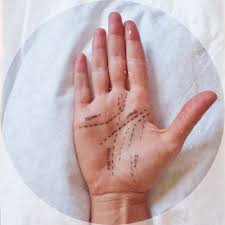palm: (79, 98, 159, 186)
